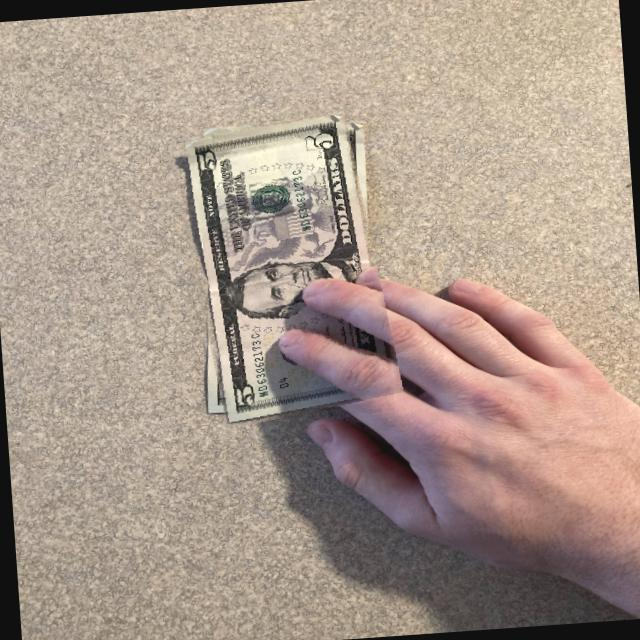five: (176, 112, 395, 426)
